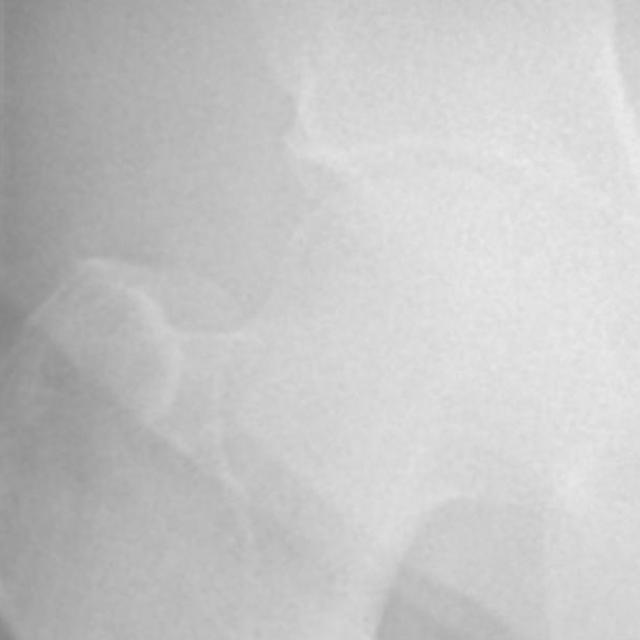Fitted_femural_head: (372, 169, 432, 372)
